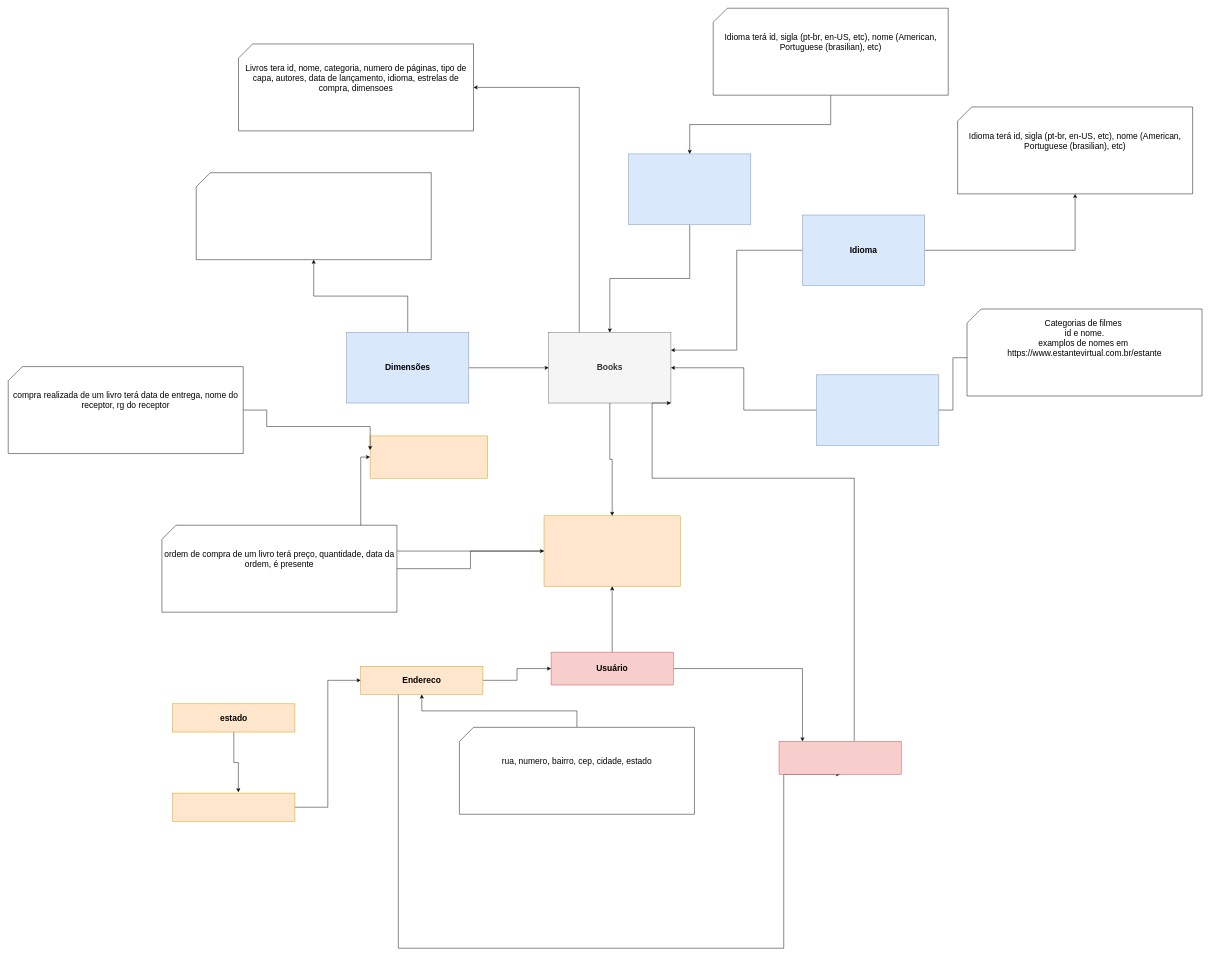
Image size: 1210x960. Some labels were removed from this diagram. The centre of each missing label's shape, as x and y in pixels:
Categorias: point (877, 409)
cidade: point (233, 807)
Compra realizada: point (429, 456)
Dimensões como largura, altura, espessura: point (313, 216)
Loja: point (840, 757)
Ordem de compra: point (612, 550)
Tipo capa: point (689, 188)
